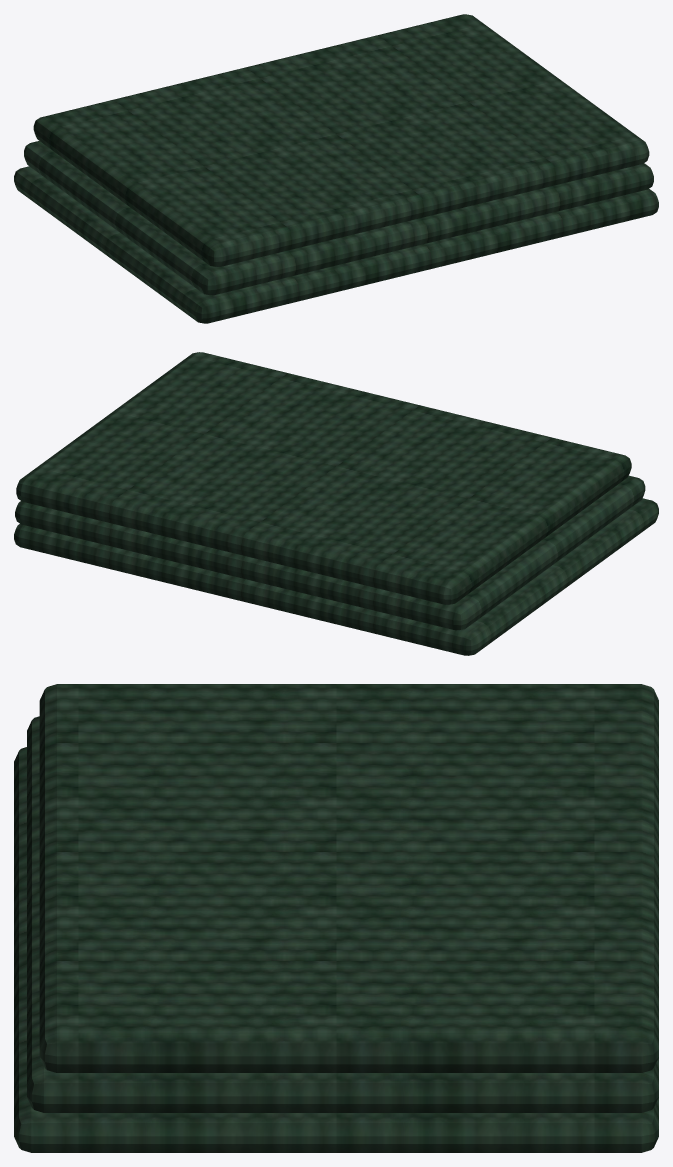
3 views of the same model, one above another, from view 1: azimuth 30°, elevation 25°; view 2: azimuth 150°, elevation 25°; view 3: azimuth 270°, elevation 25° (orthographic). The views are drawn at different scales.
Visible parts, largest first — view 1: l0; view 2: l0; view 3: l0.
Boxes of the visible parts, left/top/right/bottom form: l0: left=14, top=14, right=658, bottom=323; l0: left=14, top=352, right=658, bottom=655; l0: left=14, top=684, right=658, bottom=1152.
Size of the model in its own units: 0.42 by 0.06 by 0.3.
1 material, 1 textured.
